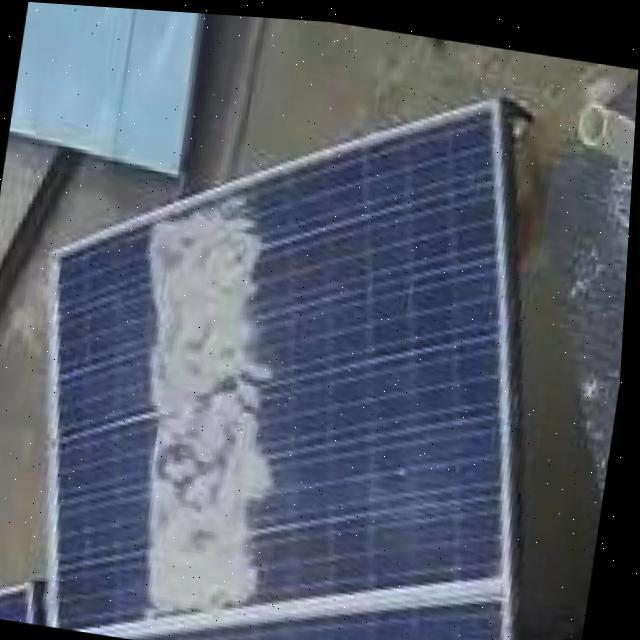Anomaly Solar Panel: (1, 98, 556, 628)
Snow: (145, 193, 273, 613)
